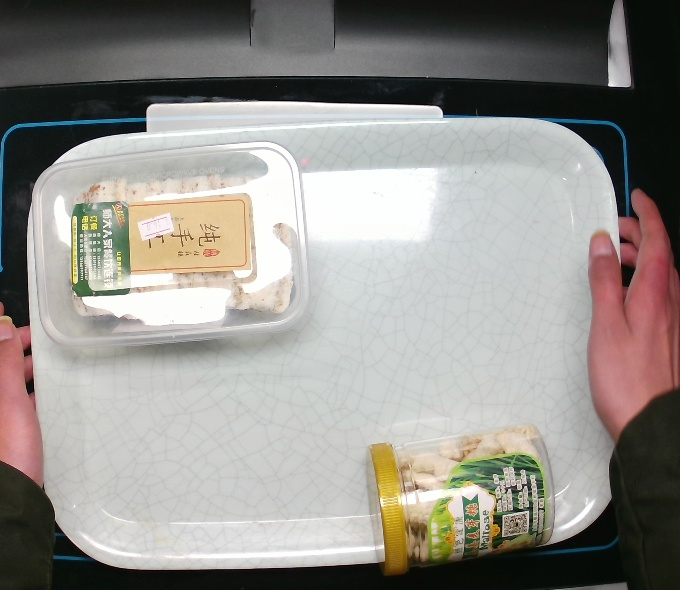wcq-GuiHuaGao: (27, 138, 316, 350)
wcq-MaiYaTang: (362, 417, 561, 580)
